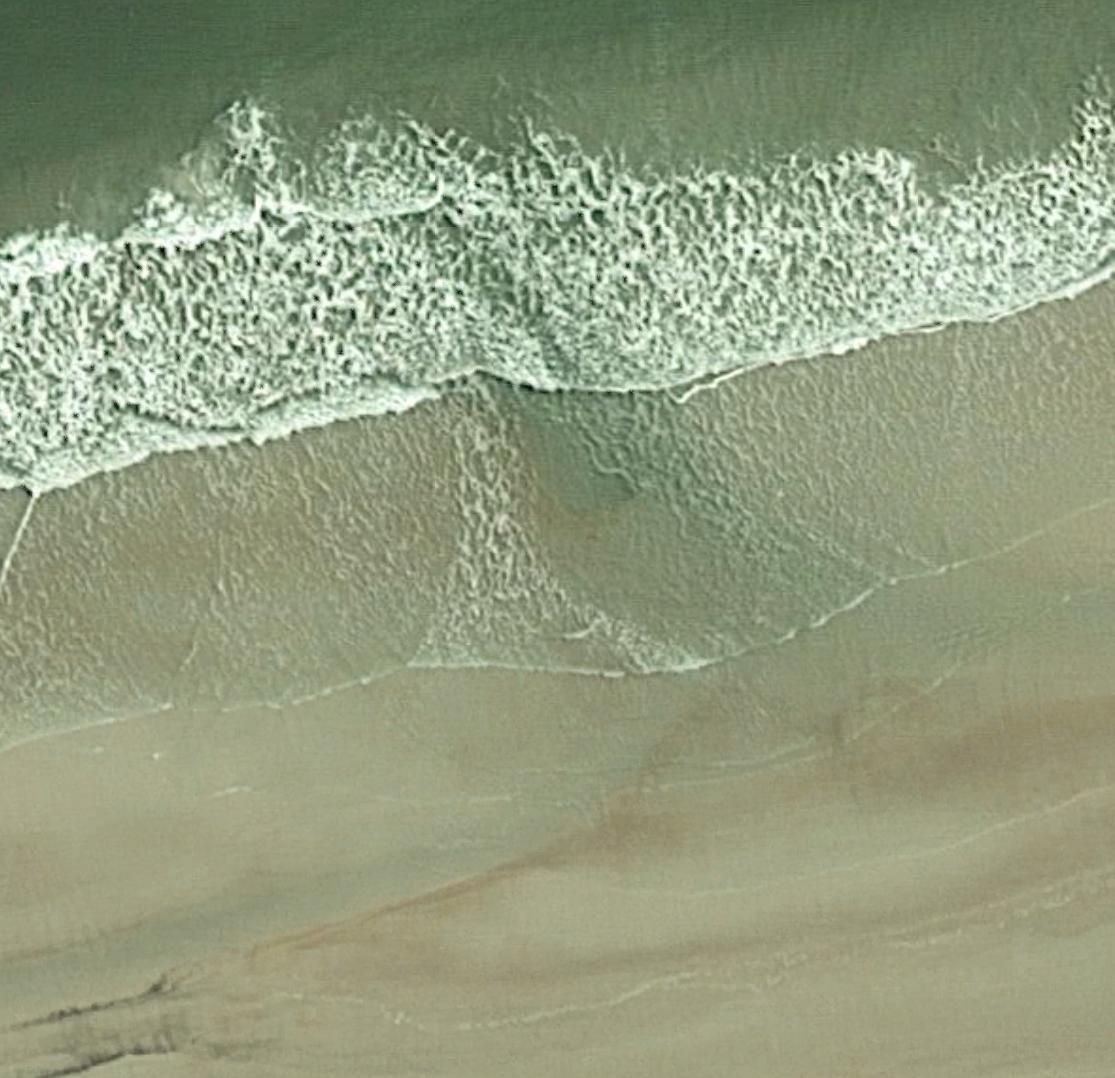rip_current: (366, 152, 754, 594)
